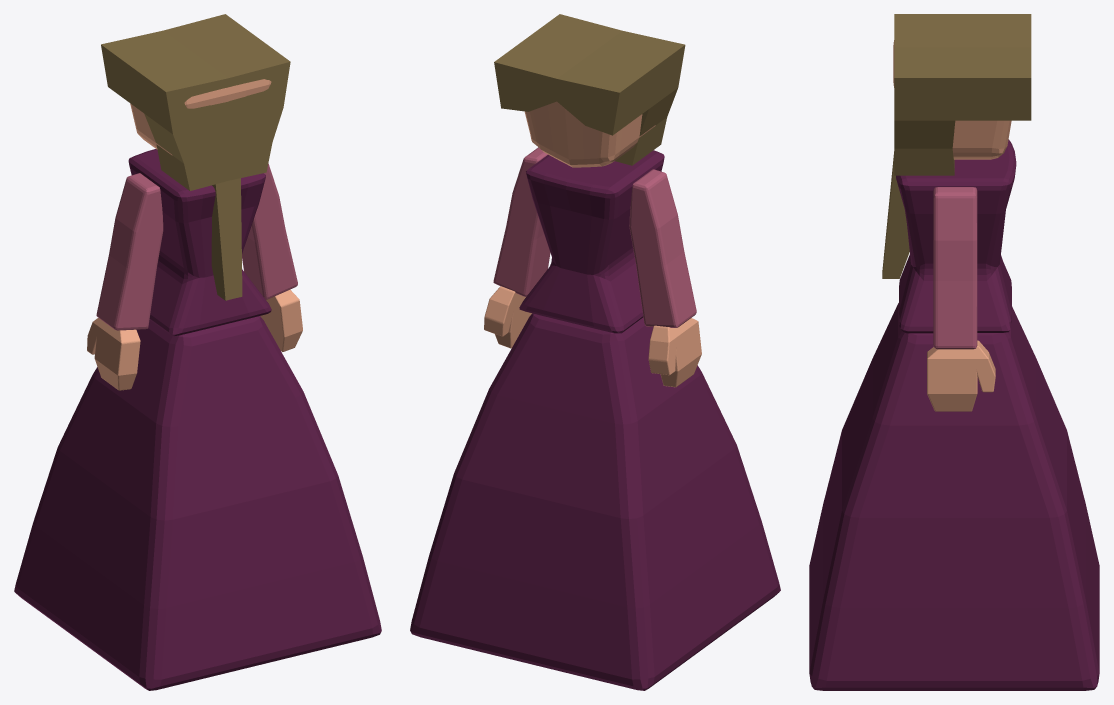
3 views of the same model, side by side, from view 1: azimuth 30°, elevation 25°; view 2: azimuth 150°, elevation 25°; view 3: azimuth 270°, elevation 25° (orthographic). The views are drawn at different scales.
Visible parts, largest first — view 1: E3_Cabeza.002; view 2: E3_Cabeza.002; view 3: E3_Cabeza.002.
Part boxes in pixels (box(x1,y1,x2,y2)): E3_Cabeza.002: box(14, 14, 381, 690); E3_Cabeza.002: box(410, 14, 780, 690); E3_Cabeza.002: box(809, 14, 1099, 690).
Bounding box in the file's own units: 296 × 662 × 296.
